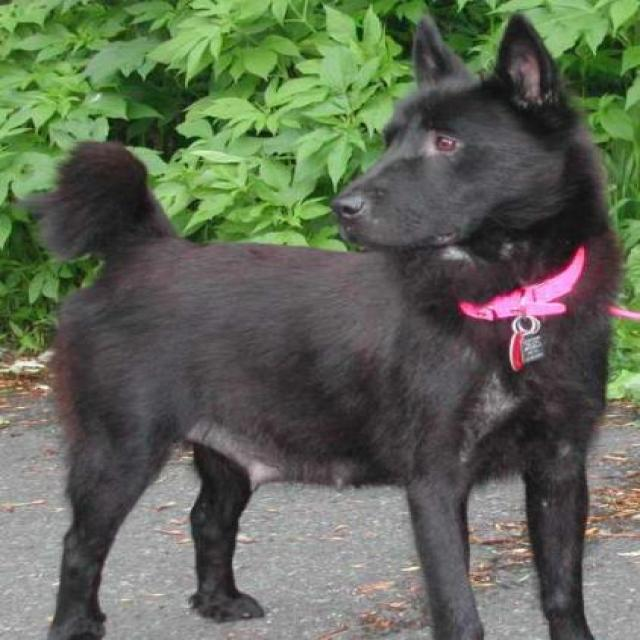Dogs: (13, 11, 624, 638)
